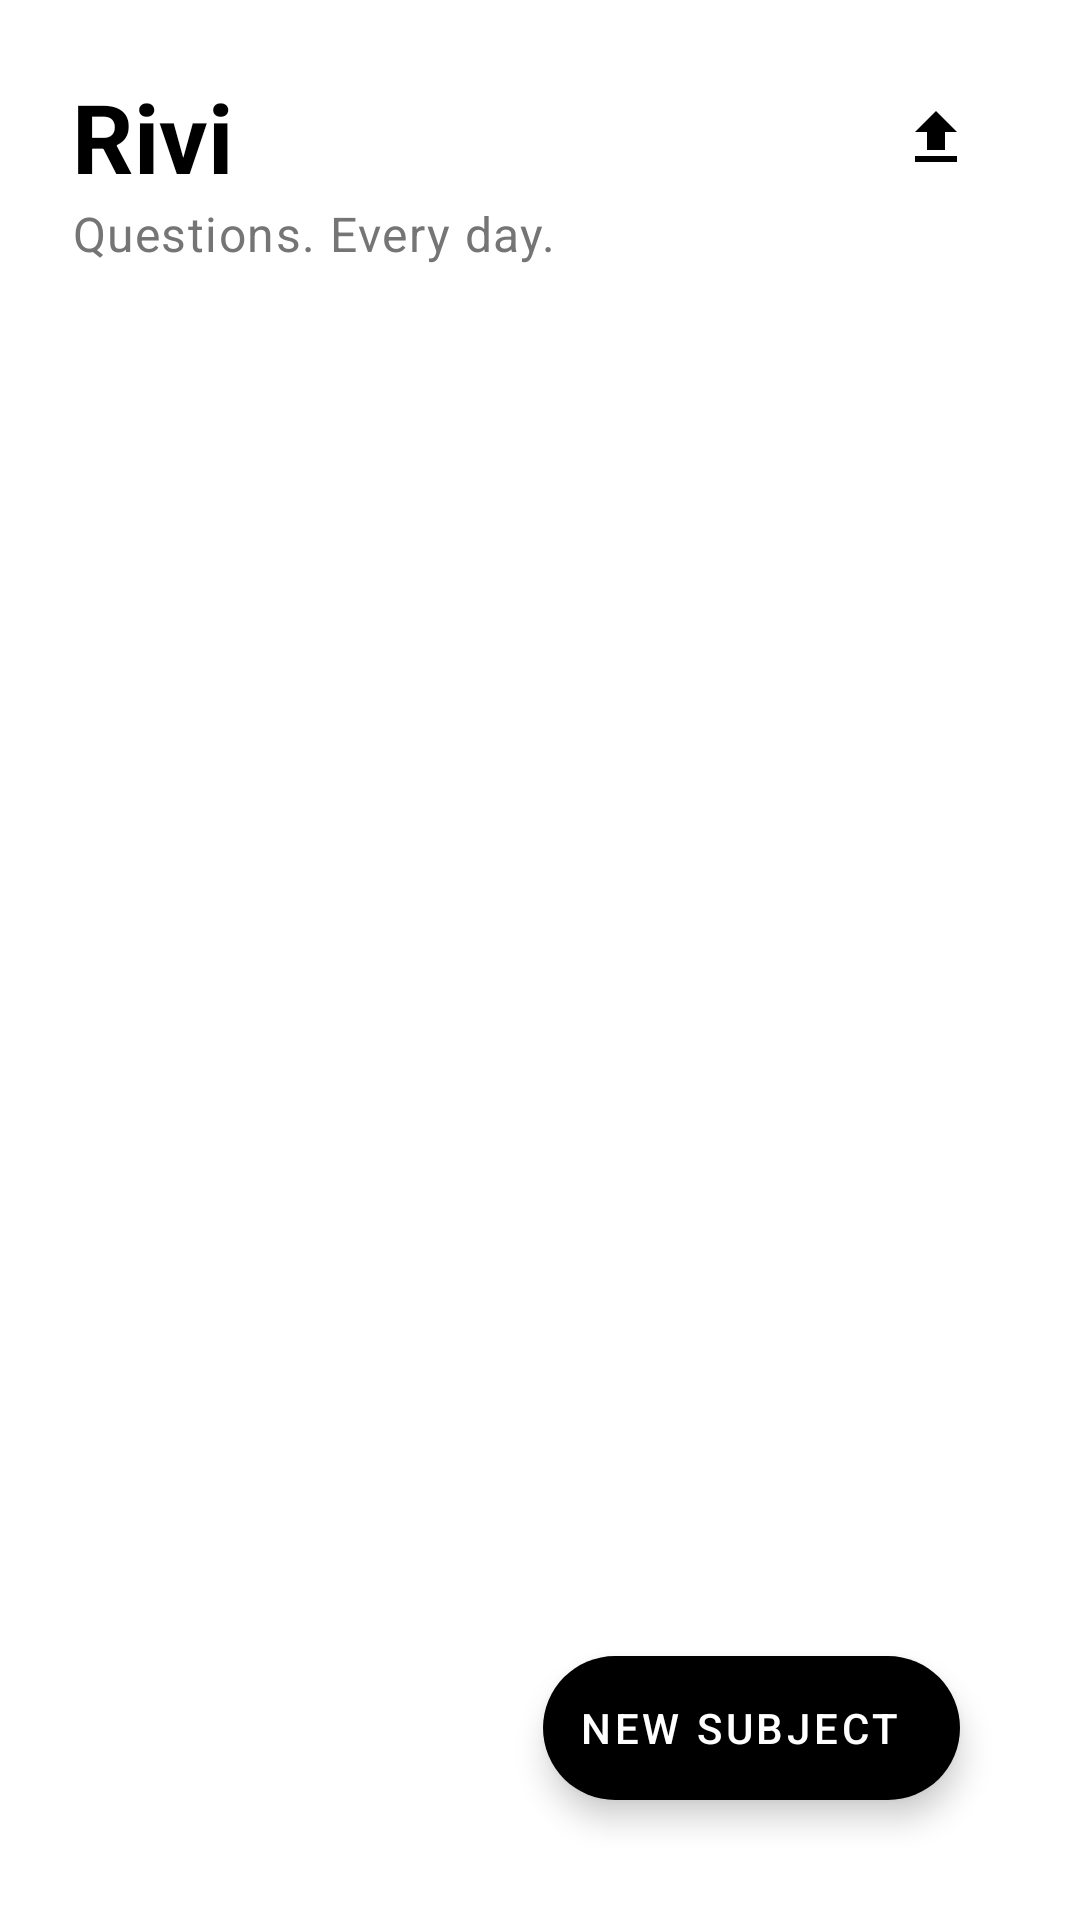

Named icons in this screenshot (1080*1920) and their centers, [x,y]:
Import Subject: [936,136]
